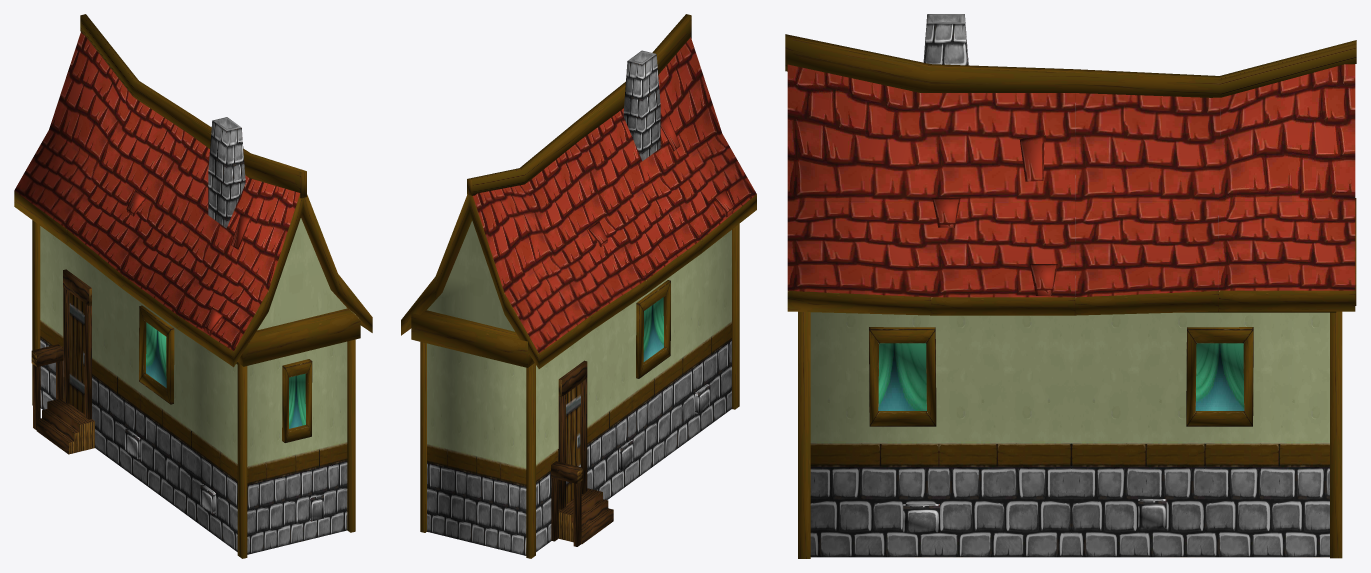
File: Newhose22.FBX
3 renders of one model, left to right at view 1: azimuth 30°, elevation 25°; view 2: azimuth 150°, elevation 25°; view 3: azimuth 270°, elevation 25°, orthographic. The views are drawn at different scales.
Parts seen in each view (by area): view 1: Newhose22; view 2: Newhose22; view 3: Newhose22.
Part boxes in pixels (bbox=[...]): Newhose22: bbox=[14, 14, 372, 558]; Newhose22: bbox=[401, 14, 756, 558]; Newhose22: bbox=[785, 14, 1356, 558].
Size of the model in its own units: 15.18 by 37.14 by 38.83.
1 material, 1 textured.
